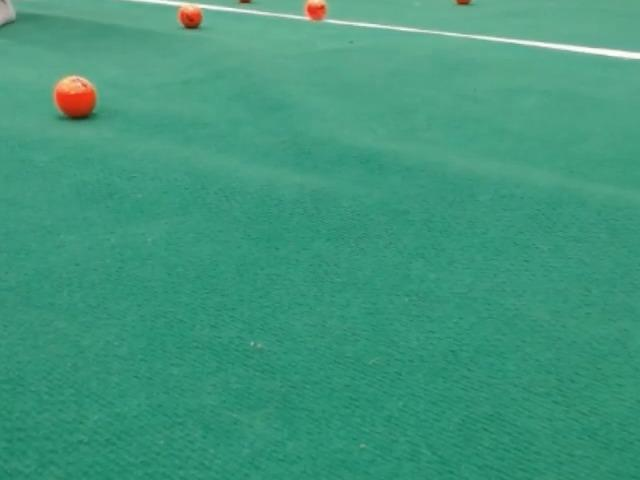Ball: (53, 75, 96, 119), (178, 4, 202, 28), (304, 0, 328, 22)
